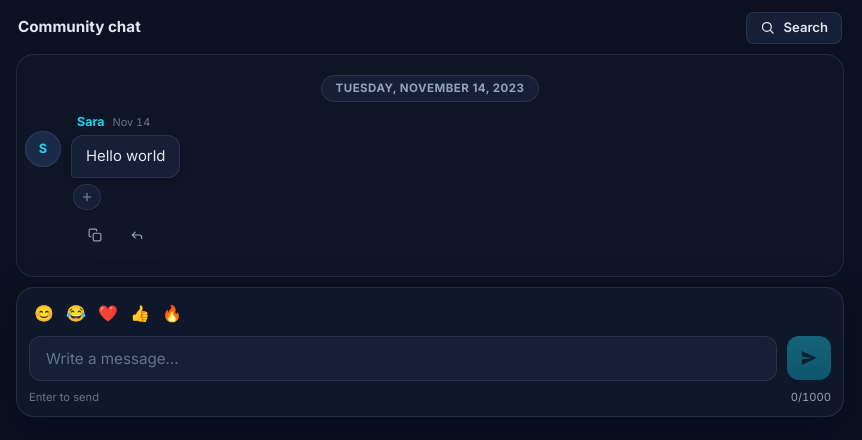
it: ChatRoom › search › shows a no-matches state and can be closed
Step 1. Click the button "Search" → (794, 28), box [746, 12, 842, 44]
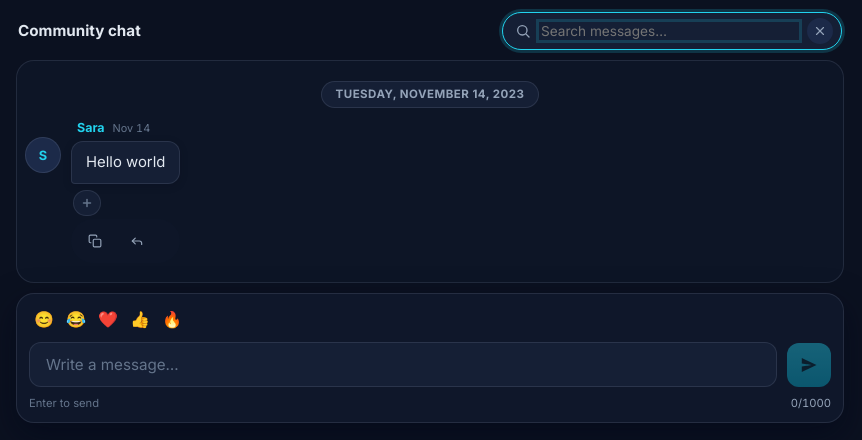
Step 2. Type "zzzz" into the field with test id "chat-search-input" → (669, 31), box [539, 22, 799, 40]
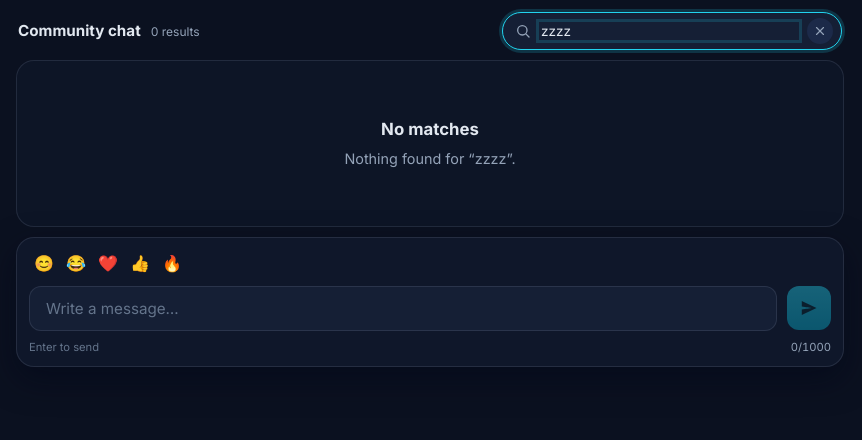
Check: the heading "No matches" is shown, box [381, 117, 479, 142]
Step 3. Click the button named "Close search" → (820, 31), box [807, 18, 833, 44]
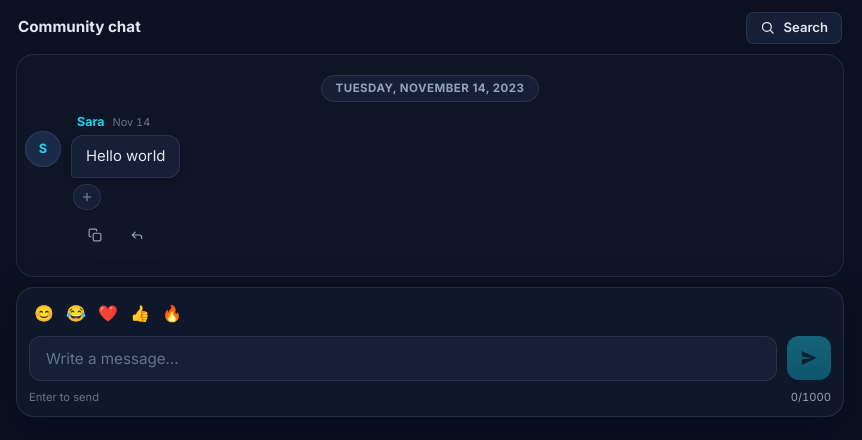
Check: the text "Hello world" is shown, box [71, 135, 180, 178]
